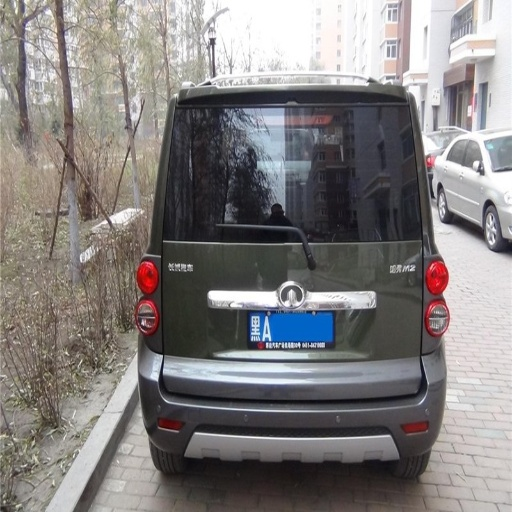back_bumper: (143, 338, 445, 454)
tailgate: (247, 241, 422, 358)
trunk: (158, 242, 423, 399)
